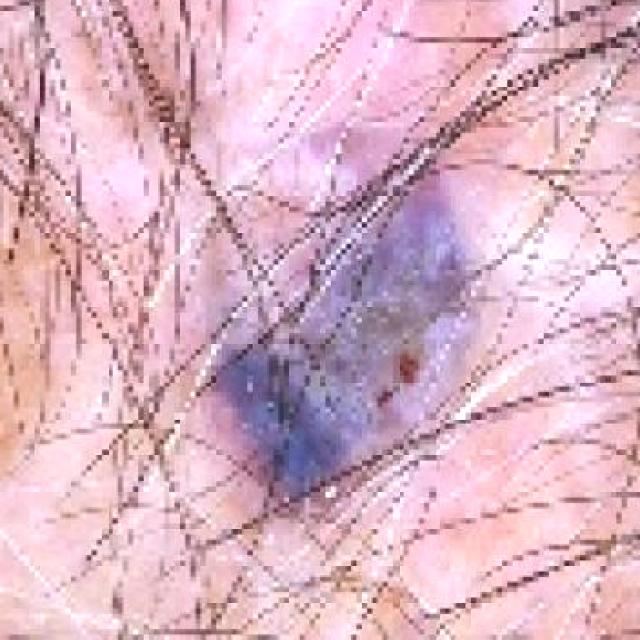BCC: (82, 0, 640, 601)
